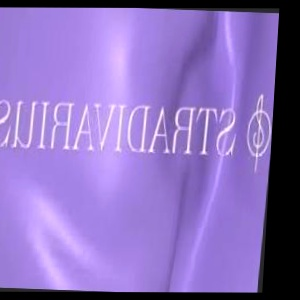stradivarius: (270, 44, 277, 116)
